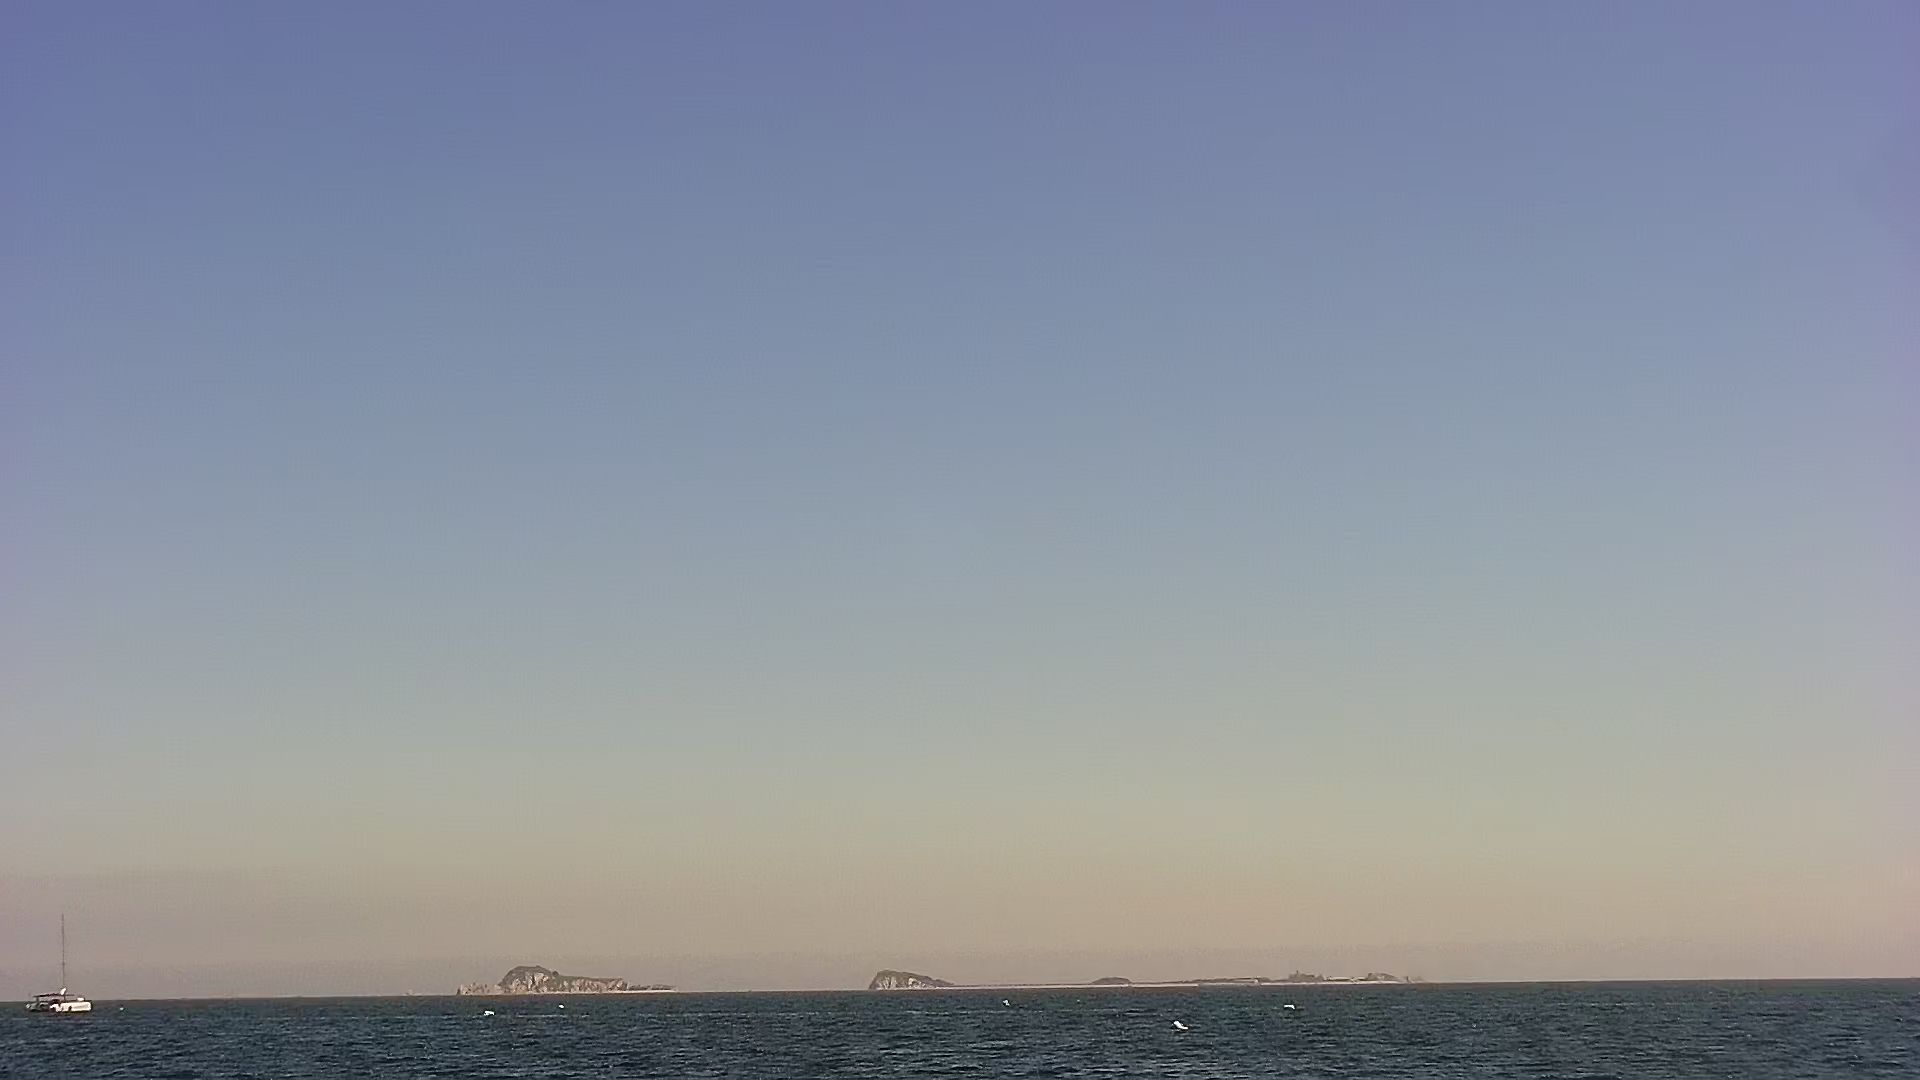boat: (17, 915, 98, 1015)
rock: (454, 963, 688, 996), (862, 957, 964, 994), (1091, 969, 1134, 988)
rubbish: (1164, 1019, 1200, 1033)
